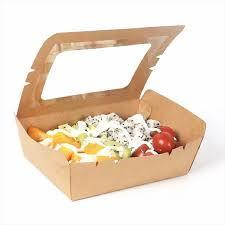box: (14, 25, 206, 200)
